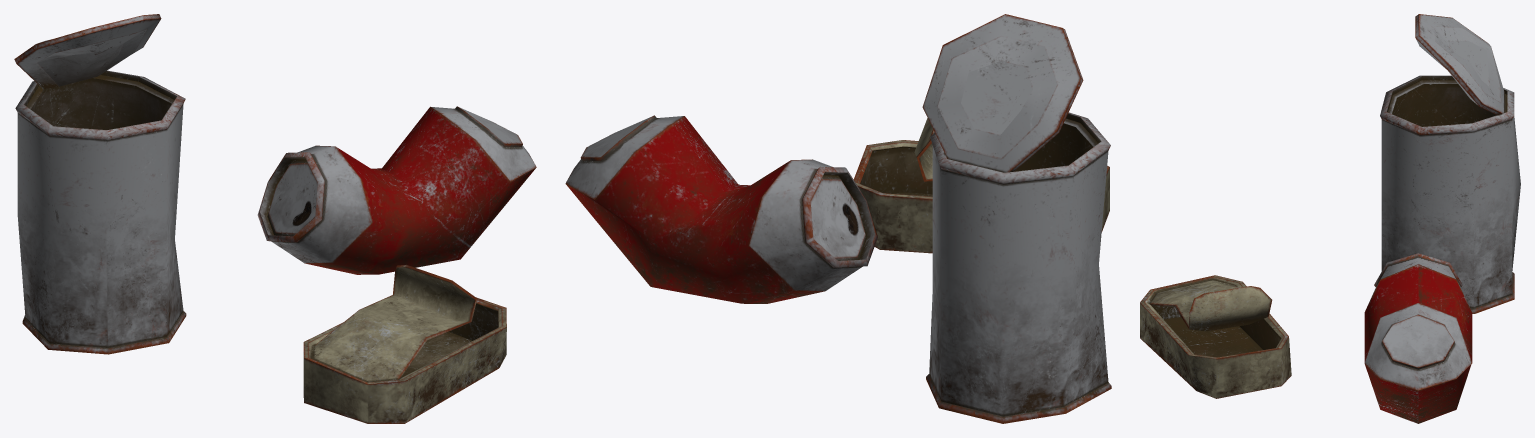
3 renders of one model, left to right at view 1: azimuth 30°, elevation 25°; view 2: azimuth 150°, elevation 25°; view 3: azimuth 270°, elevation 25°, orthographic. The views are drawn at different scales.
Visible parts, largest first — view 1: Can_01_GEO_2, Can_03_GEO_0, Can_02_GEO_1; view 2: Can_01_GEO_2, Can_03_GEO_0, Can_02_GEO_1; view 3: Can_01_GEO_2, Can_03_GEO_0, Can_02_GEO_1.
Boxes of the visible parts, x1=… form: Can_01_GEO_2: x1=14, y1=14, x2=186, y2=354; Can_03_GEO_0: x1=257, y1=106, x2=536, y2=274; Can_02_GEO_1: x1=303, y1=264, x2=506, y2=423; Can_01_GEO_2: x1=922, y1=14, x2=1111, y2=423; Can_03_GEO_0: x1=565, y1=115, x2=877, y2=303; Can_02_GEO_1: x1=853, y1=118, x2=1109, y2=253; Can_01_GEO_2: x1=1380, y1=14, x2=1520, y2=313; Can_03_GEO_0: x1=1364, y1=253, x2=1472, y2=423; Can_02_GEO_1: x1=1140, y1=275, x2=1291, y2=398.
Size of the model in its own units: 0.2685 by 0.1663 by 0.218.
Materials: 1 (1 with a texture image).
